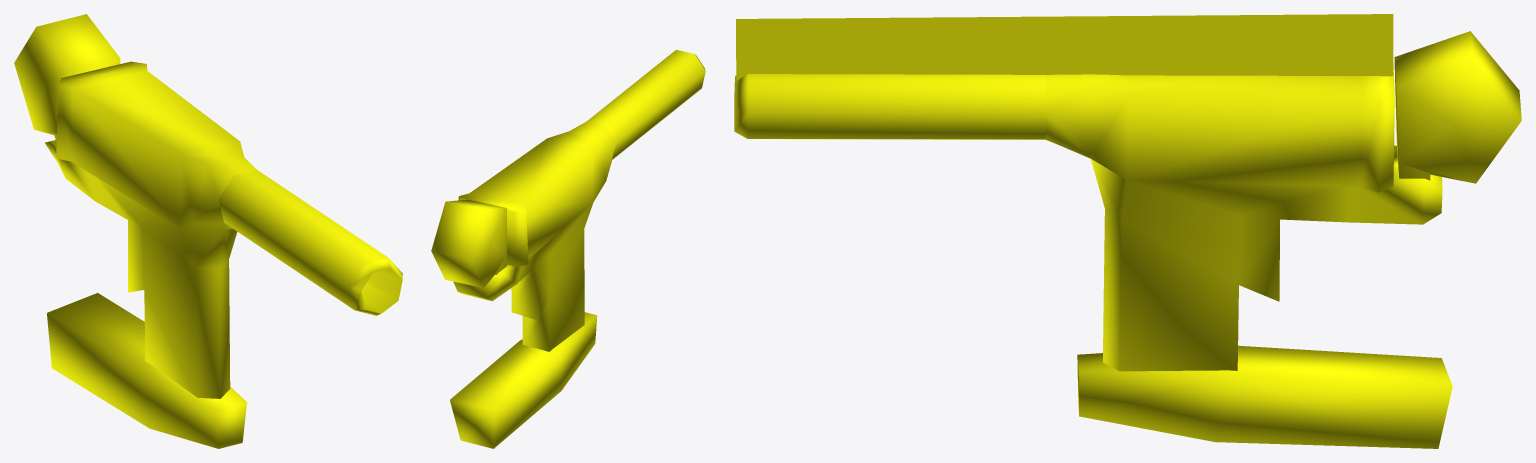
The model's file is APG LEFT.glb.
3 views of the same model, side by side, from view 1: azimuth 30°, elevation 25°; view 2: azimuth 150°, elevation 25°; view 3: azimuth 270°, elevation 25° (orthographic). The views are drawn at different scales.
Parts seen in each view (by area): view 1: character_3dmg_2.015; view 2: character_3dmg_2.015; view 3: character_3dmg_2.015.
Part boxes in pixels (x1,y1,x2,y2): character_3dmg_2.015: (14, 14, 402, 448); character_3dmg_2.015: (431, 49, 705, 448); character_3dmg_2.015: (734, 14, 1521, 448).
Size of the model in its own units: 0.0408 by 0.1461 by 0.245.
Materials: 1 (1 with a texture image).
